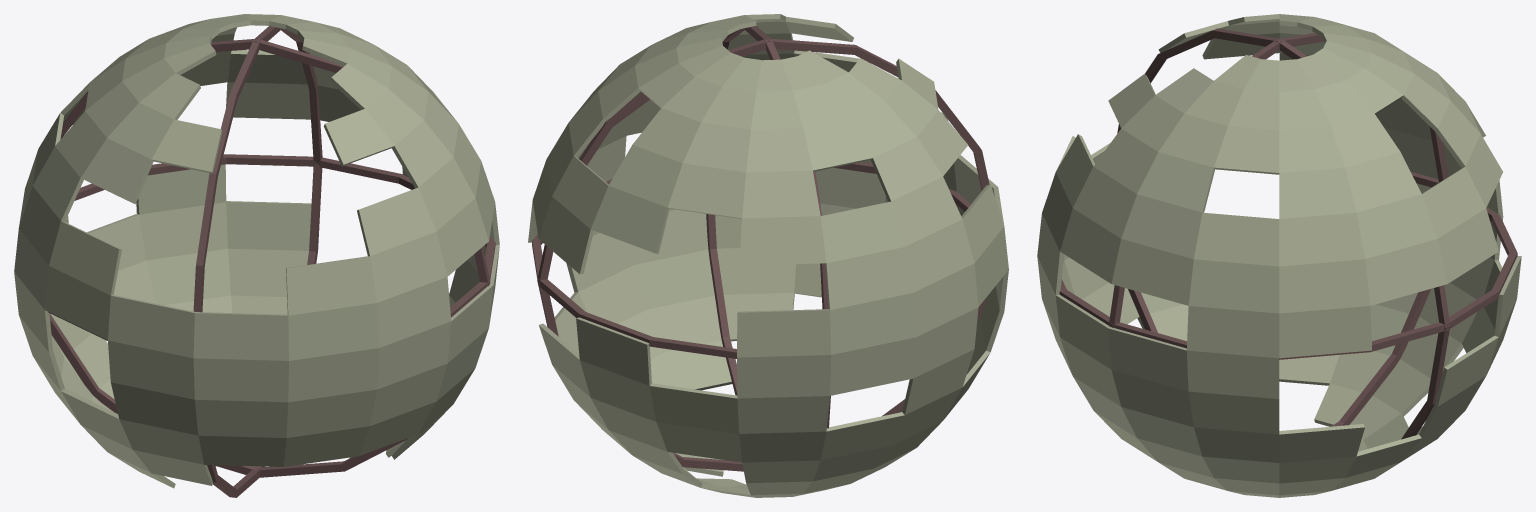
File: BrokenSphere.fbx
The picture shows the model from 3 angles, left to right: view 1: azimuth 30°, elevation 25°; view 2: azimuth 150°, elevation 25°; view 3: azimuth 270°, elevation 25°; orthographic projection.
Parts seen in each view (by area): view 1: Circle.002; view 2: Circle.002; view 3: Circle.002.
Boxes of the visible parts, x1,y1,x2,y2 form: Circle.002: [14, 14, 499, 497]; Circle.002: [528, 14, 1008, 497]; Circle.002: [1037, 14, 1521, 497].
Size of the model in its own units: 200 by 197 by 200.
